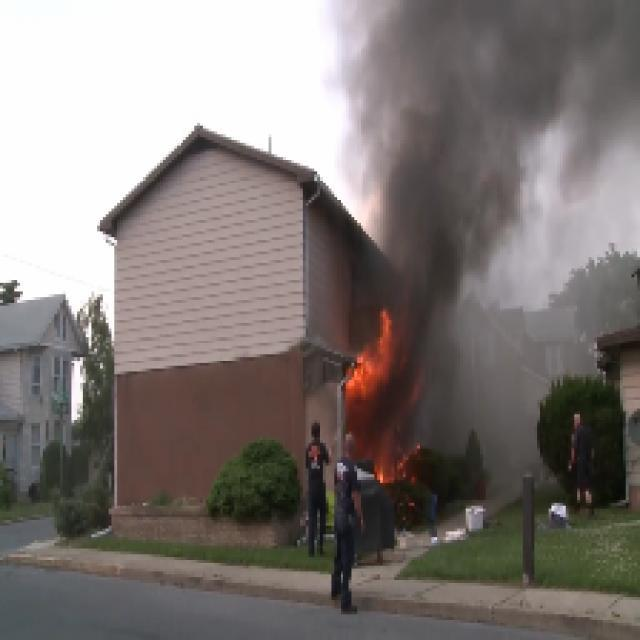Smoke: (386, 29, 499, 238), (508, 14, 628, 74)
